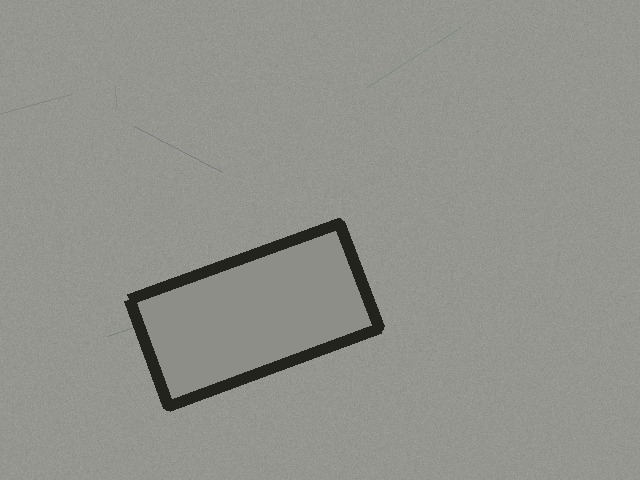parking_area: (129, 223, 379, 406)
